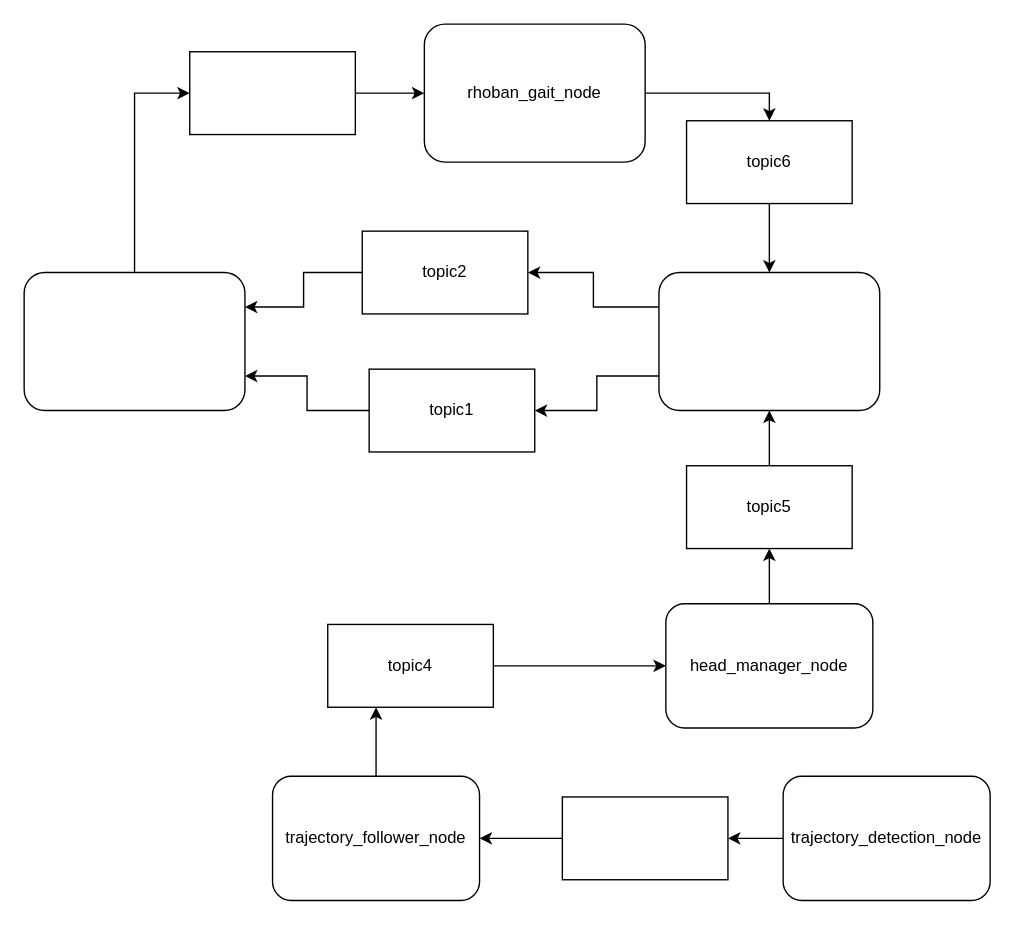
This 1014x925 diagram has some shape labels left out. The centre of each missing label's shape, as x and y in pixels:
behav_lomba1_node: (134,341)
motion_manager_node: (769,341)
service: (271,92)
topic3: (644,838)
